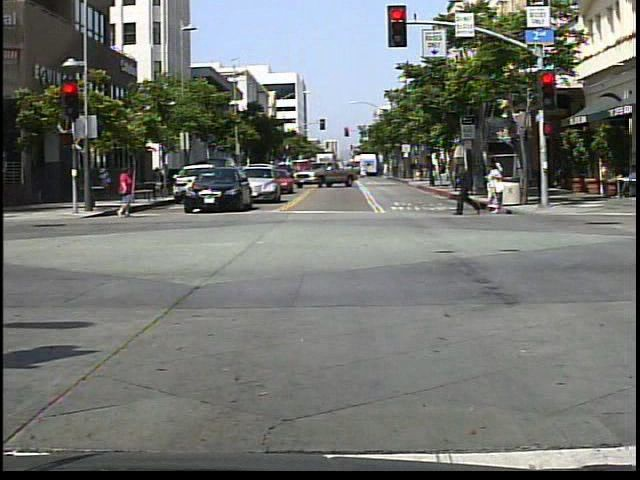person: (454, 157, 488, 221), (483, 157, 509, 221), (114, 164, 137, 219), (617, 155, 640, 199)
